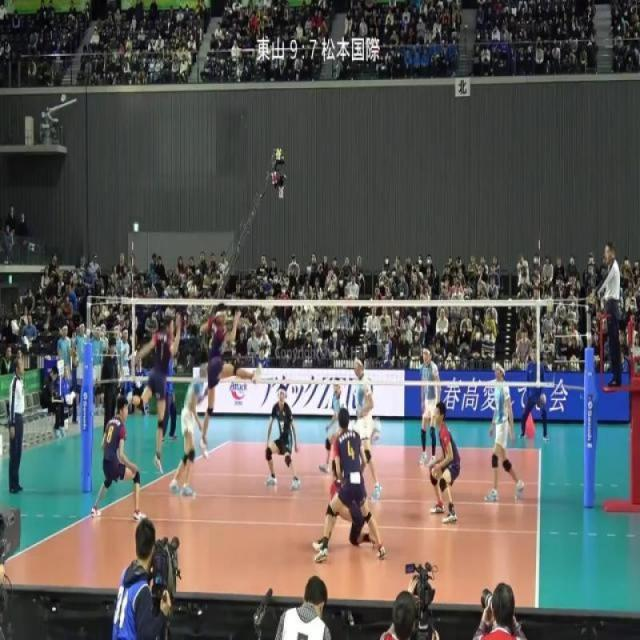volleyball: (370, 424, 381, 442)
